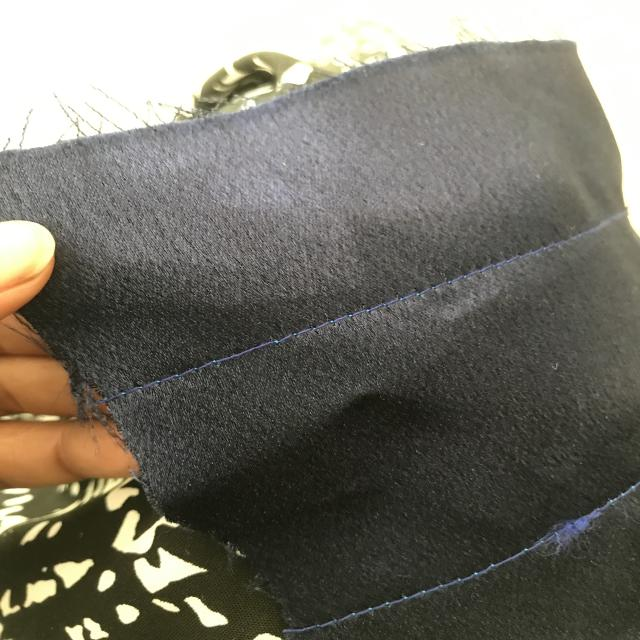good: (347, 258, 518, 301)
